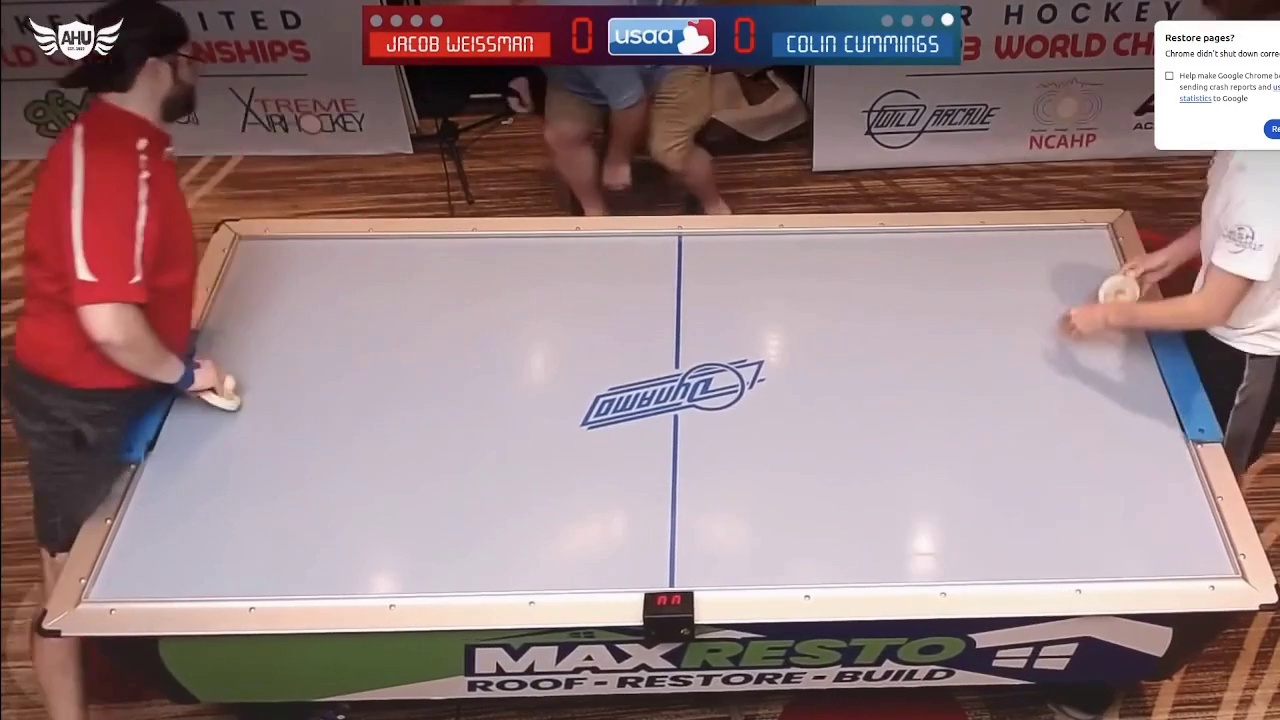player: (1097, 271, 1147, 311), (202, 368, 244, 415)
table: (109, 207, 1270, 621)
